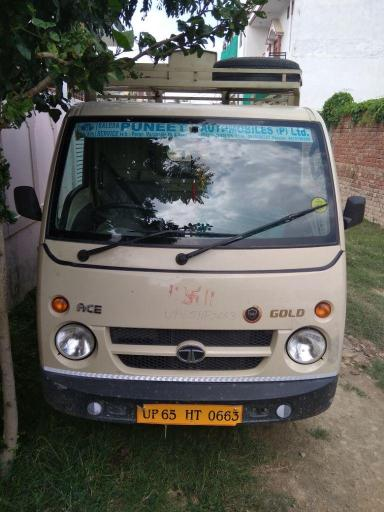numberplate: (133, 399, 243, 425)
